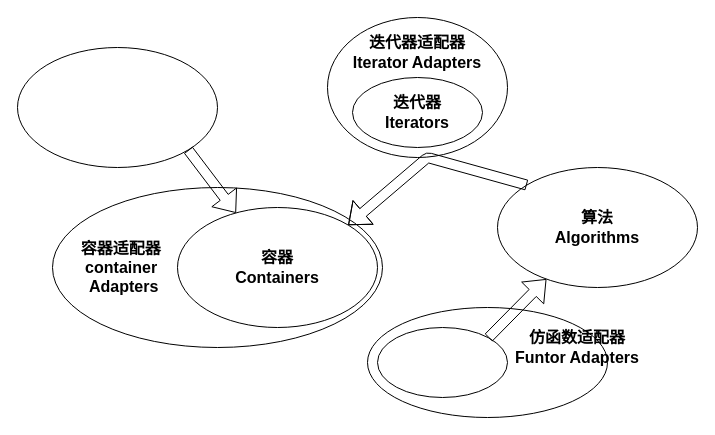
This 715x435 diagram has some shape labels left out. The shapes that lost their labels are listed below. From the top down, each one's box as (x1, y1, x2, y2) in pixels, then its label:
(16, 46, 218, 168): 分配器 Allocator
(376, 326, 508, 398): 仿函数 functors
